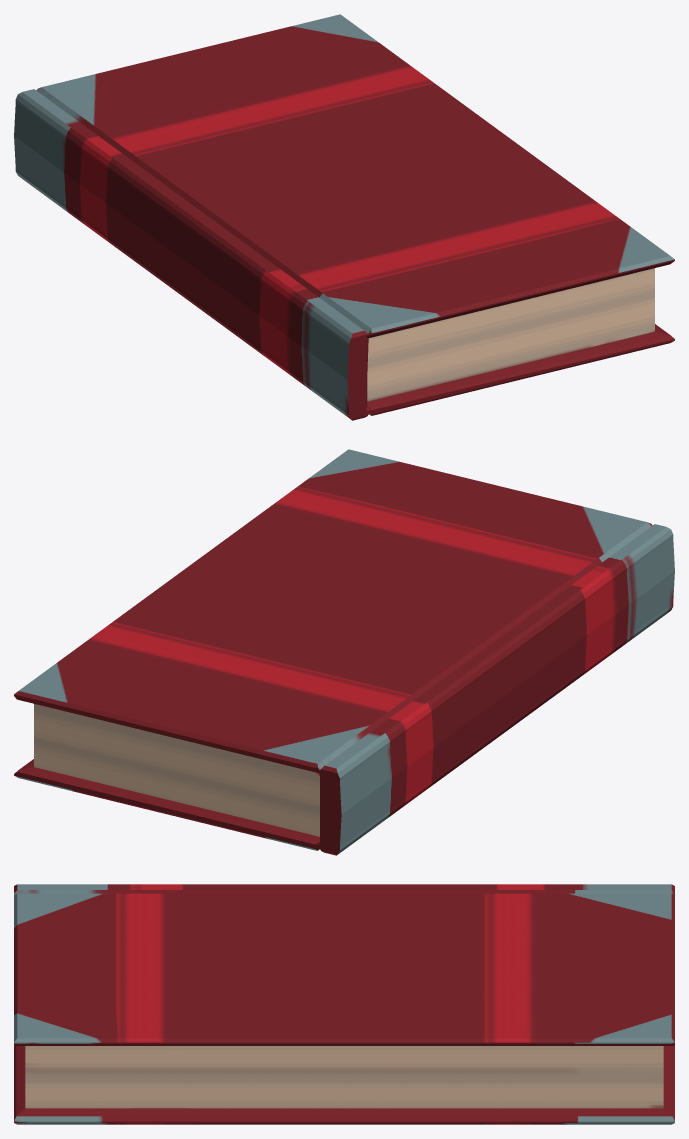
File: Book.fbx
3 views of the same model, one above another, from view 1: azimuth 30°, elevation 25°; view 2: azimuth 150°, elevation 25°; view 3: azimuth 270°, elevation 25° (orthographic).
Parts seen in each view (by area): view 1: Book; view 2: Book; view 3: Book.
Part boxes in pixels (x1,y1,x2,y2): Book: (14,14,674,420); Book: (14,449,674,855); Book: (14,884,674,1124).
Bounding box in the file's own units: 11.7 × 2.98 × 20.63.
1 material, 1 textured.
